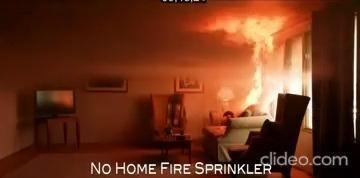fire: (185, 0, 302, 125)
